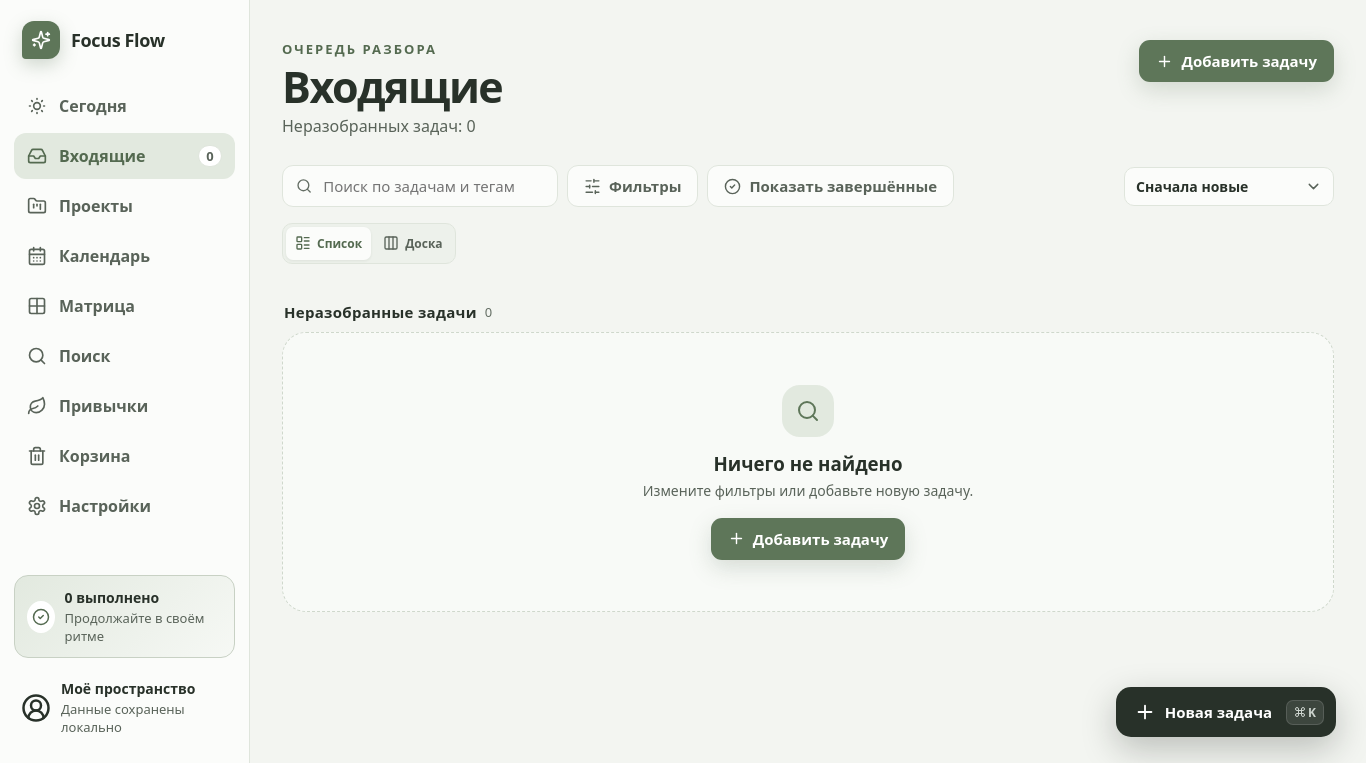
TaskCard safety and focus › renders urgency from the task project threshold
Check: the heading "Входящие" is shown, box [282, 65, 502, 108]
Click the button "Фильтры": x=633, y=186 [567, 165, 698, 207]
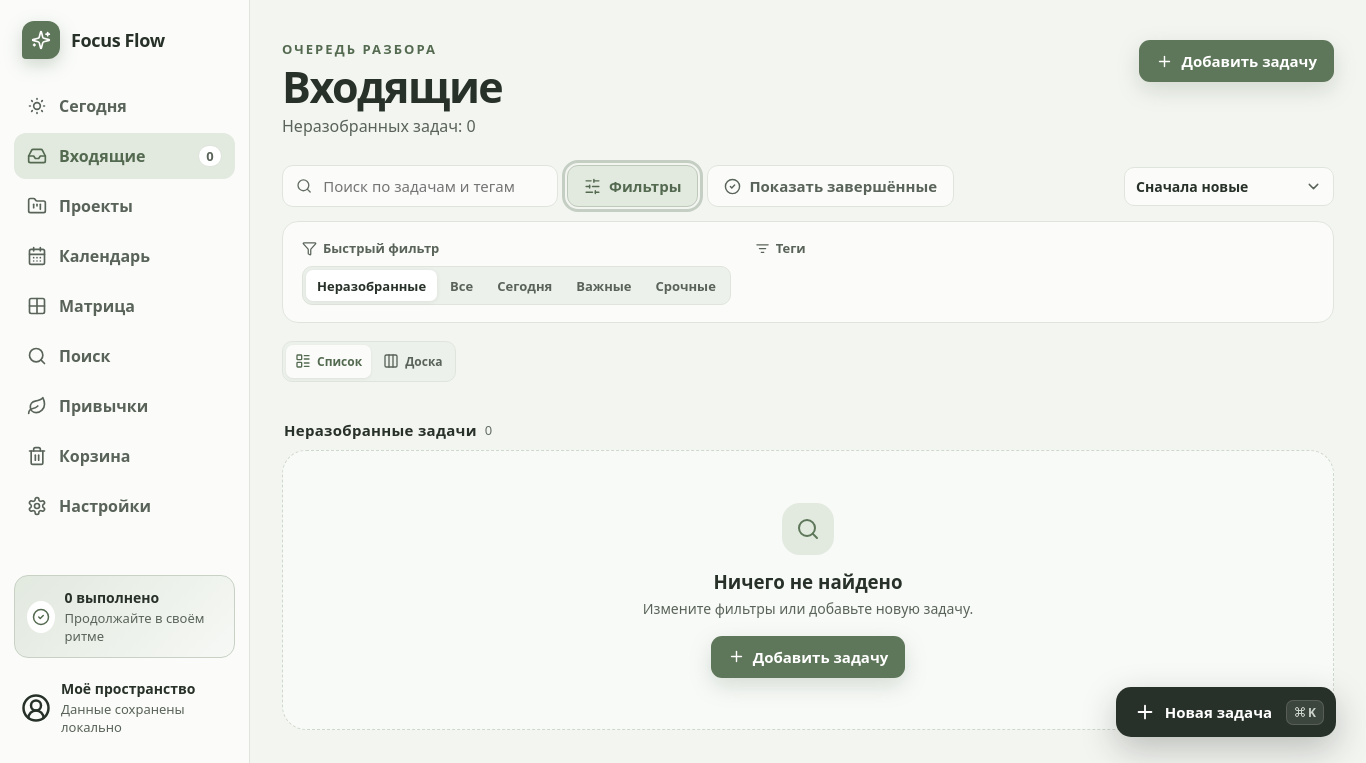
Click the button "Все": x=462, y=286 [439, 270, 484, 301]
(page scrolled)
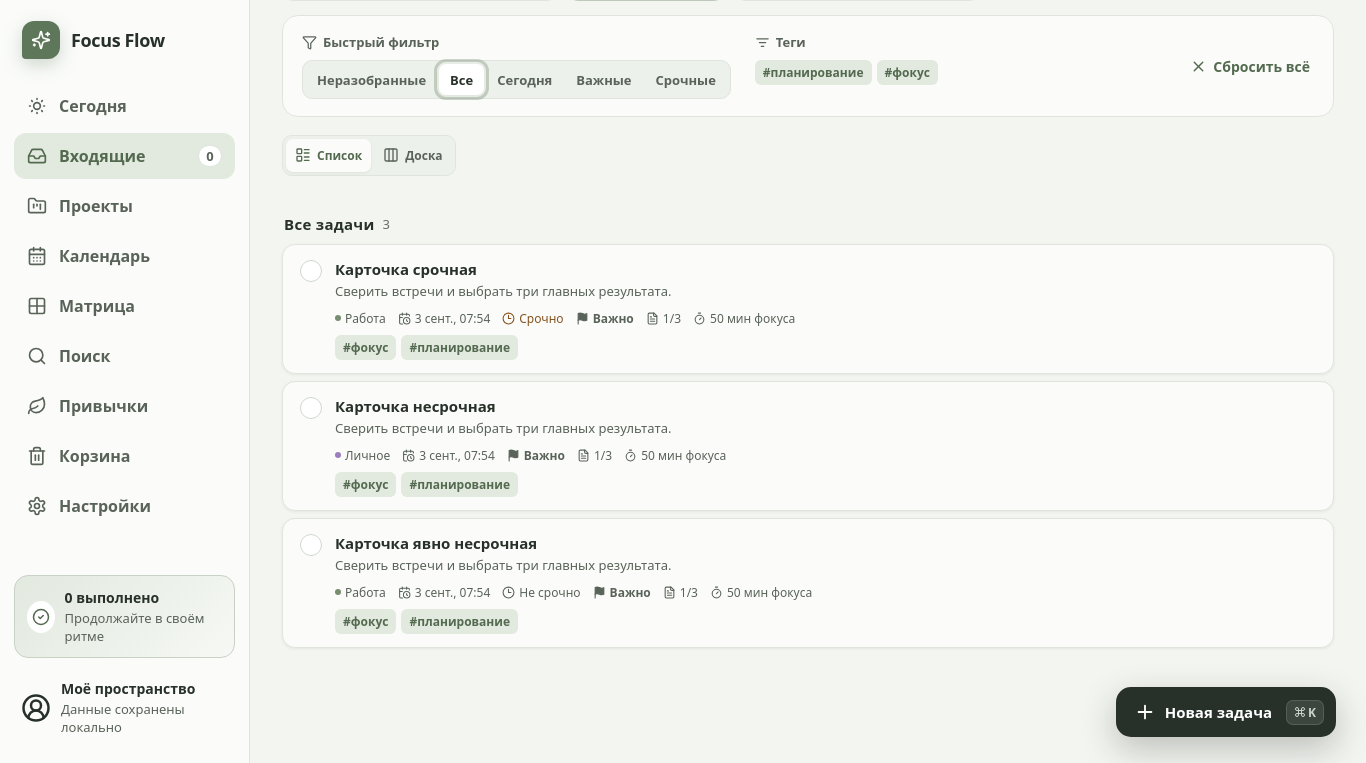
Check: the text "Карточка срочная" is shown, box [335, 259, 1274, 360]
Check: the text "Карточка несрочная" is shown, box [335, 396, 1274, 497]
Check: the text "Срочно" is shown, box [502, 310, 564, 327]
